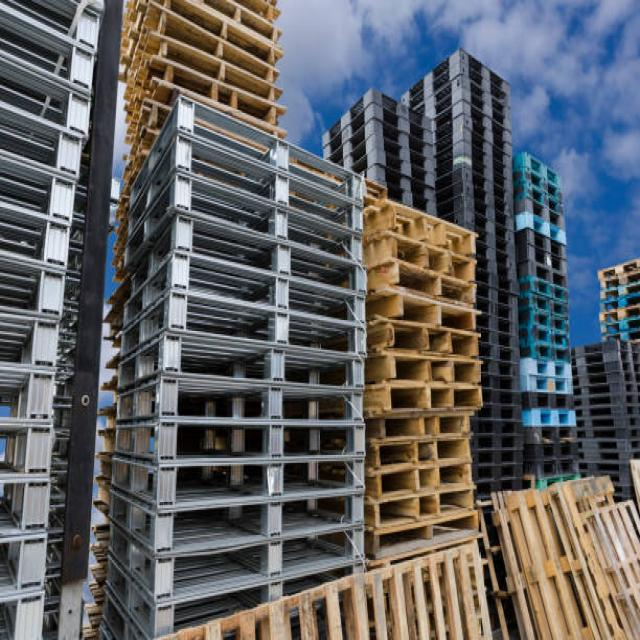Wooden-Pallets: (374, 192, 482, 270), (377, 240, 483, 305), (371, 431, 483, 482), (371, 489, 483, 539), (369, 344, 486, 382)
